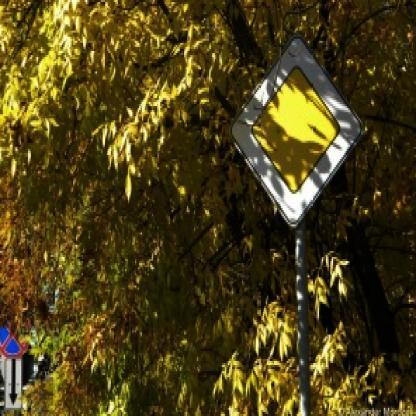obstructed_road_sign: (0, 317, 32, 355)
road_sign: (226, 32, 365, 231), (3, 358, 24, 409)
